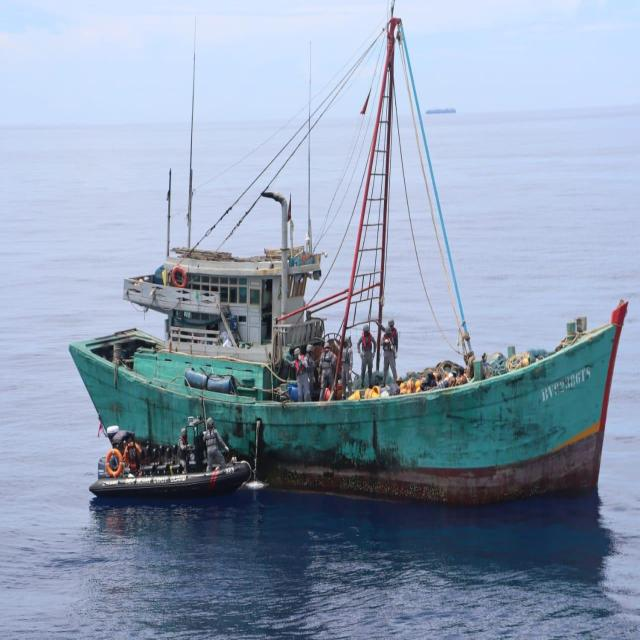boat: (49, 8, 637, 531)
